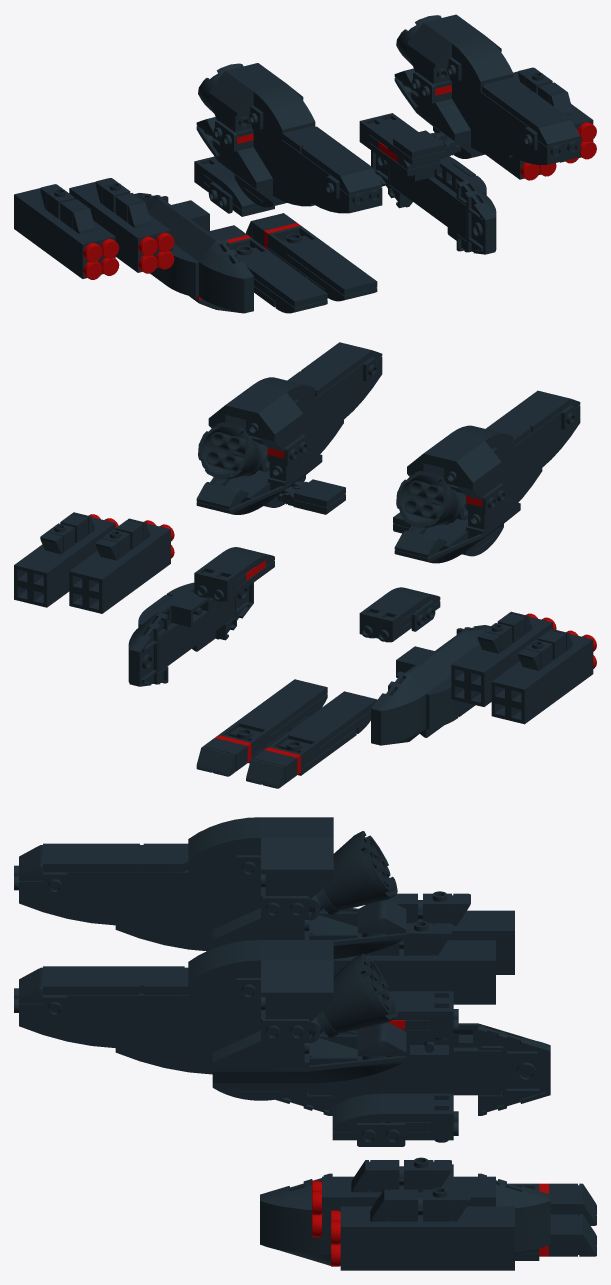
File: vf-1s-valkyrie-fast-packs.dae
3 renders of one model, top to bottom at view 1: azimuth 30°, elevation 25°; view 2: azimuth 150°, elevation 25°; view 3: azimuth 270°, elevation 25°, orthographic. The views are drawn at different scales.
Bounding box in the file's own units: 618 × 482 × 316.
